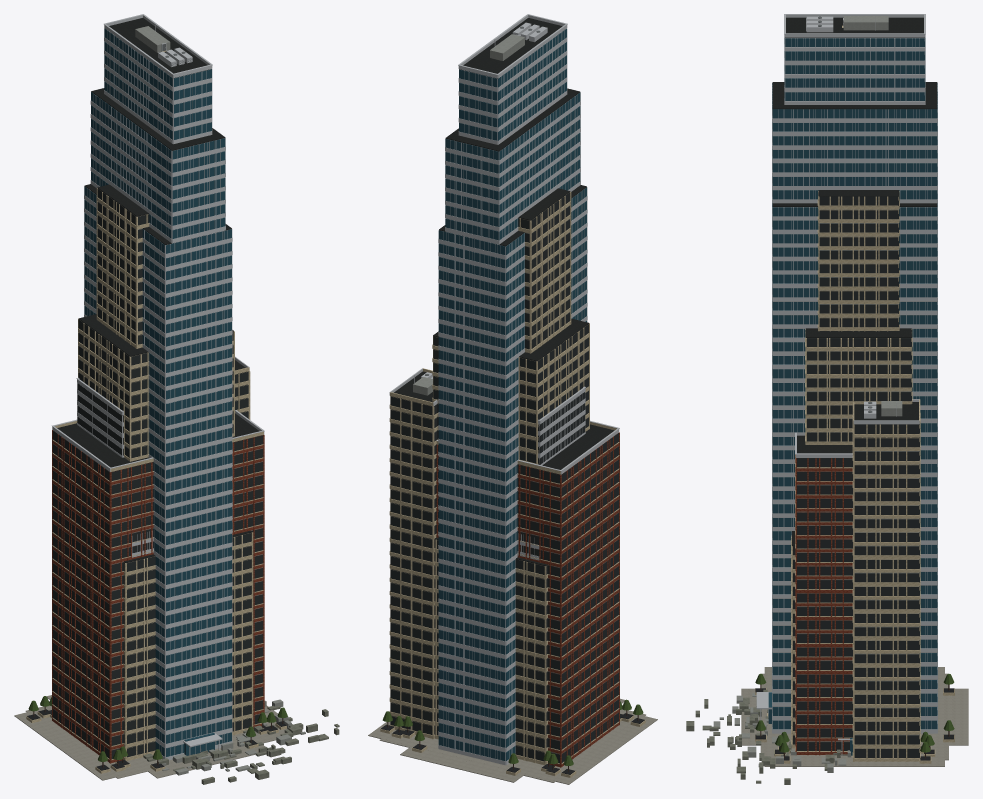
The model's file is highrise_03.glb.
The picture shows the model from 3 angles, left to right: view 1: azimuth 30°, elevation 25°; view 2: azimuth 150°, elevation 25°; view 3: azimuth 270°, elevation 25°; orthographic projection. The views are drawn at different scales.
Parts seen in each view (by area): view 1: main_tower/lod1_band_04 (×2), main_tower/lod1_band_03 (×3), main_tower/lod1_band_01 (×3), main_tower/lod1_band_02 (×3), main_tower/lod1_band_00 (×3), main_tower/lod1_band_05 (×2), main_tower/lod1_band_07 (×3), main_tower/roof_plant (×3), main_tower/lod1_band_06 (×3), main_tower/lod1_band_08 (×2), main_tower/lod1_band_11, main_tower/lod1_band_09 (×2) (+57 smaller); view 2: main_tower/lod1_band_04 (×2), main_tower/lod1_band_03 (×3), main_tower/lod1_band_00 (×3), main_tower/lod1_band_02 (×3), main_tower/lod1_band_01 (×3), main_tower/lod1_band_07 (×3), main_tower/lod1_band_06 (×3), main_tower/lod1_band_05 (×2), main_tower/roof_plant (×3), main_tower/lod1_band_11, main_tower/lod1_band_10, ground/paving (×2) (+84 smaller); view 3: main_tower/lod1_band_11, main_tower/lod1_band_06 (×2), main_tower/lod1_band_10, main_tower/lod1_band_08 (×2), main_tower/lod1_band_07 (×2), main_tower/lod1_band_09 (×2), main_tower/roof_plant (×3), ground/paving (×2), main_tower/lod1_band_01 (×2), main_tower/lod1_band_03 (×2), main_tower/lod1_band_02 (×2), main_tower/lod1_band_05 (×3) (+57 smaller).
Boxes of the visible parts, bbox=[...] form: main_tower/lod1_band_04 (×2): bbox=[52, 457, 264, 552]; main_tower/lod1_band_03 (×3): bbox=[52, 510, 264, 605]; main_tower/lod1_band_01 (×3): bbox=[52, 615, 264, 711]; main_tower/lod1_band_02 (×3): bbox=[52, 562, 264, 658]; main_tower/lod1_band_00 (×3): bbox=[52, 668, 264, 763]; main_tower/lod1_band_05 (×2): bbox=[52, 428, 264, 499]; main_tower/lod1_band_07 (×3): bbox=[77, 279, 234, 437]; main_tower/roof_plant (×3): bbox=[52, 15, 264, 472]; main_tower/lod1_band_06 (×3): bbox=[77, 346, 234, 457]; main_tower/lod1_band_08 (×2): bbox=[84, 226, 232, 337]; main_tower/lod1_band_11: bbox=[91, 68, 225, 176]; main_tower/lod1_band_09 (×2): bbox=[84, 171, 232, 282]; main_tower/lod1_band_04 (×2): bbox=[436, 459, 619, 555]; main_tower/lod1_band_03 (×3): bbox=[434, 512, 619, 608]; main_tower/lod1_band_00 (×3): bbox=[434, 672, 619, 767]; main_tower/lod1_band_02 (×3): bbox=[434, 566, 619, 661]; main_tower/lod1_band_01 (×3): bbox=[434, 619, 619, 714]; main_tower/lod1_band_07 (×3): bbox=[432, 281, 589, 446]; main_tower/lod1_band_06 (×3): bbox=[432, 350, 589, 464]; main_tower/lod1_band_05 (×2): bbox=[436, 430, 619, 501]; main_tower/roof_plant (×3): bbox=[436, 15, 616, 474]; main_tower/lod1_band_11: bbox=[445, 68, 580, 177]; main_tower/lod1_band_10: bbox=[445, 119, 580, 231]; ground/paving (×2): bbox=[368, 698, 657, 784]; main_tower/lod1_band_11: bbox=[772, 78, 937, 136]; main_tower/lod1_band_06 (×2): bbox=[772, 356, 937, 419]; main_tower/lod1_band_10: bbox=[772, 136, 937, 190]; main_tower/lod1_band_08 (×2): bbox=[772, 247, 937, 304]; main_tower/lod1_band_07 (×2): bbox=[772, 301, 937, 365]; main_tower/lod1_band_09 (×2): bbox=[772, 190, 937, 250]; main_tower/roof_plant (×3): bbox=[784, 15, 925, 458]; ground/paving (×2): bbox=[741, 667, 968, 766]; main_tower/lod1_band_01 (×2): bbox=[772, 625, 937, 701]; main_tower/lod1_band_03 (×2): bbox=[772, 517, 937, 593]; main_tower/lod1_band_02 (×2): bbox=[772, 571, 937, 647]; main_tower/lod1_band_05 (×3): bbox=[772, 409, 937, 485].
Size of the model in its own units: 70.82 by 198 by 71.98.
Materials: 17 (17 with a texture image).
